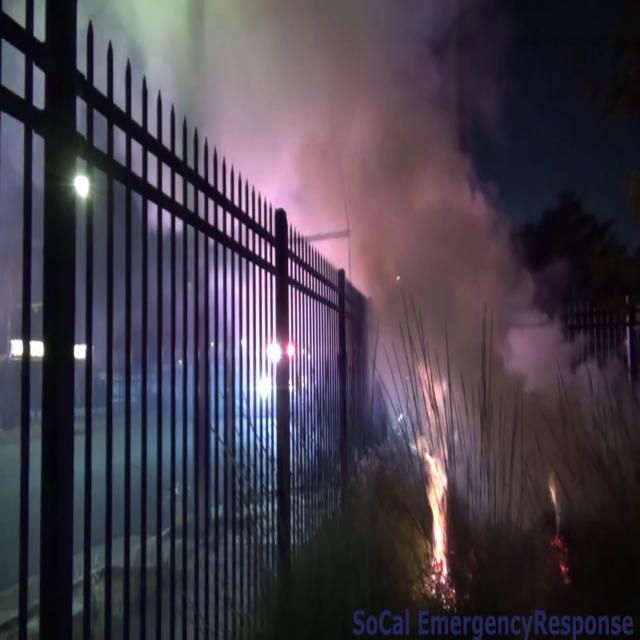Fire: (418, 419, 454, 589)
Smoke: (312, 1, 554, 447)
